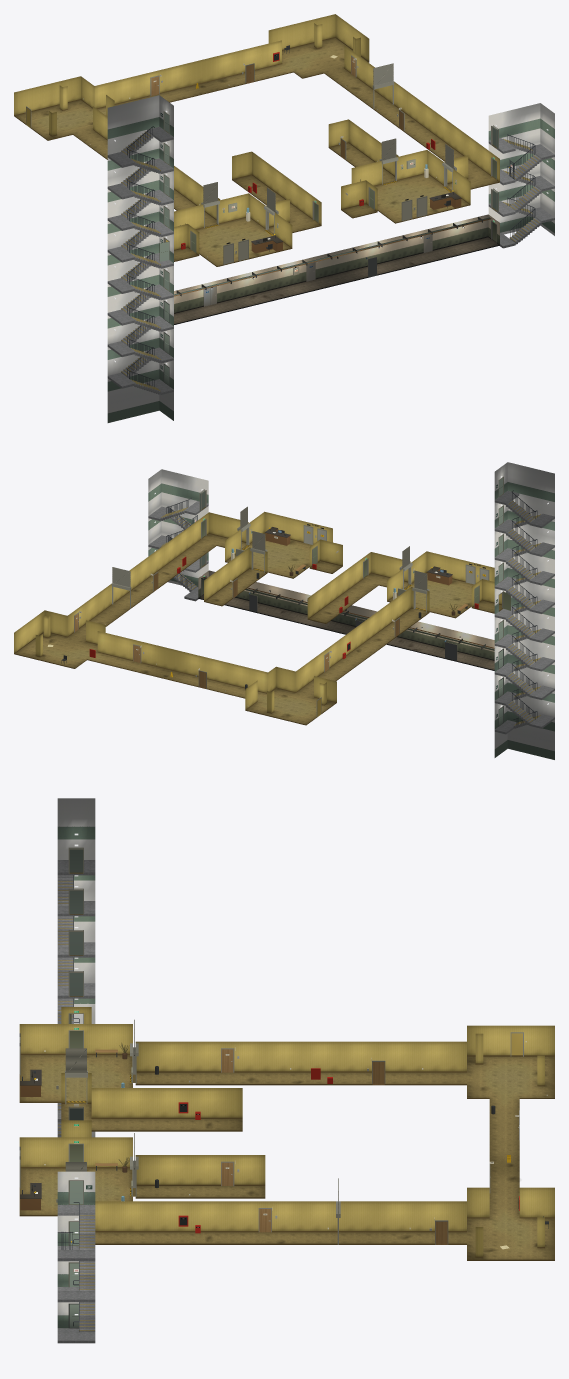
File: loop.glb
3 renders of one model, top to bottom at view 1: azimuth 30°, elevation 25°; view 2: azimuth 150°, elevation 25°; view 3: azimuth 270°, elevation 25°, orthographic. The views are drawn at different scales.
Size of the model in its own units: 51.7 by 36 by 42.96.
72 materials, 41 textured.
